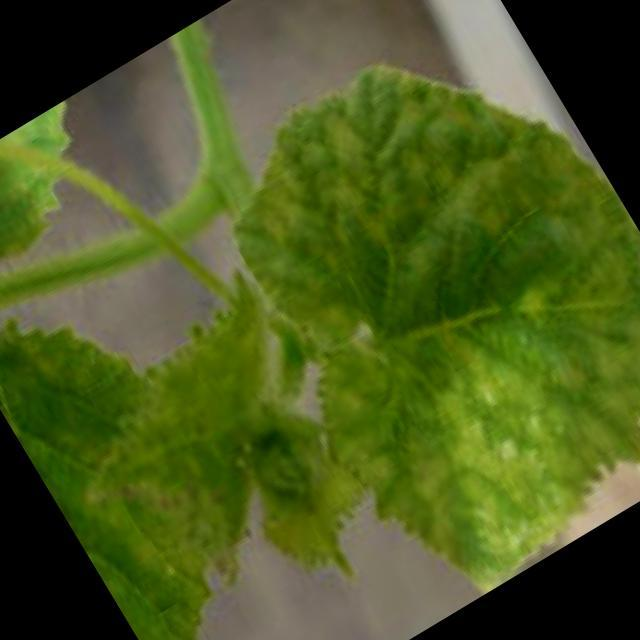Tomato mosaic virus leaf: (193, 7, 640, 604)
